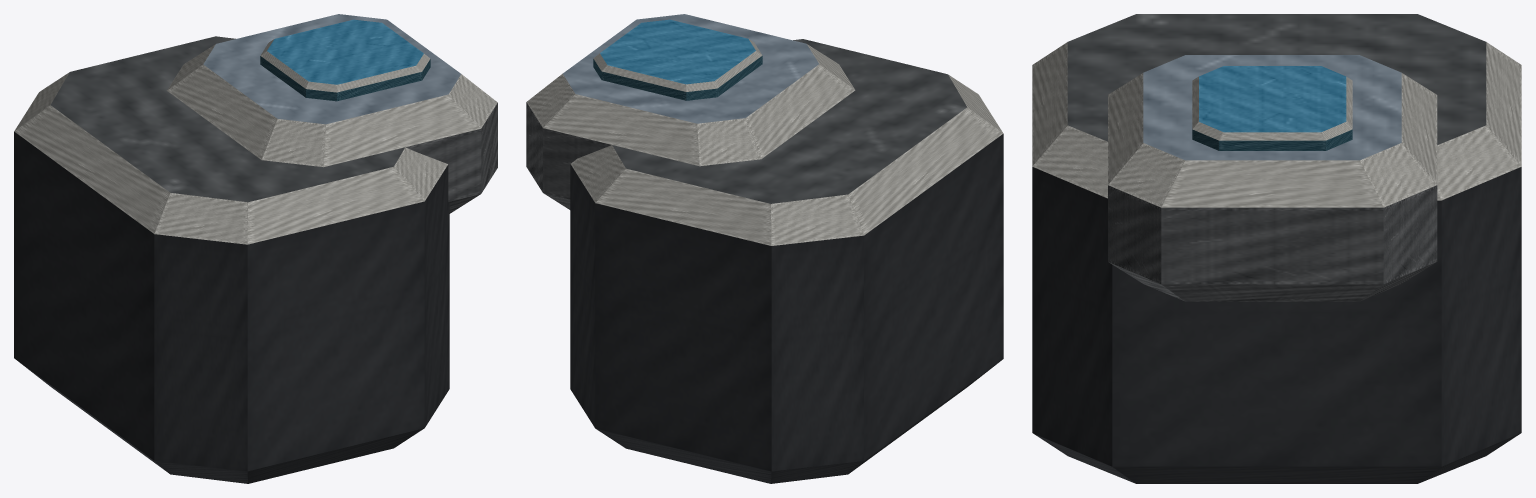
Rendered from Antena.glb.
3 renders of one model, left to right at view 1: azimuth 30°, elevation 25°; view 2: azimuth 150°, elevation 25°; view 3: azimuth 270°, elevation 25°, orthographic. The views are drawn at different scales.
Visible parts, largest first — view 1: Antena; view 2: Antena; view 3: Antena.
Part boxes in pixels (left/top/right/bottom): Antena: left=14, top=14, right=497, bottom=483; Antena: left=526, top=14, right=1003, bottom=483; Antena: left=1032, top=14, right=1521, bottom=483.
Size of the model in its own units: 0.111 by 0.094 by 0.11.
Materials: 1 (1 with a texture image).
